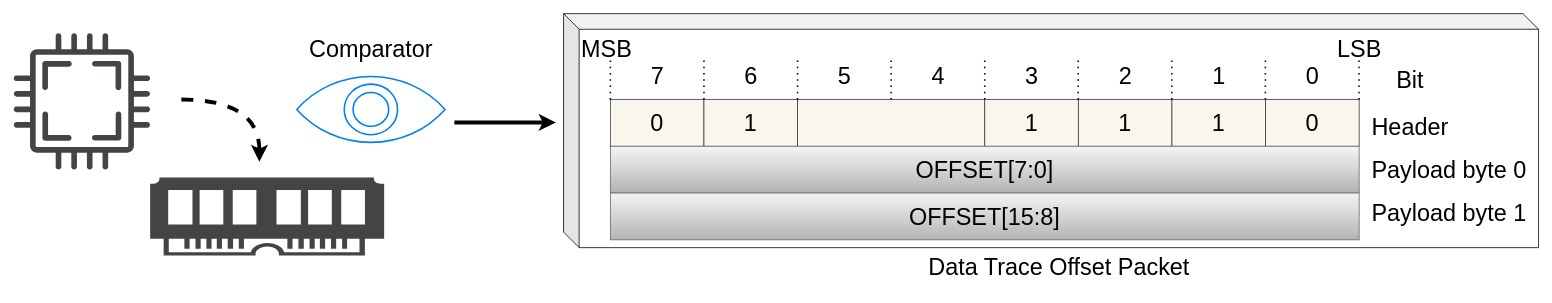
The diagram is 1552 pixels wide and 303 high, and some of its shapes have lost their labels. Here are the shapes that lost their labels. From the top down, the box of each, then its label:
(13, 33, 150, 169): CPU
(797, 99, 985, 146): CMPN[1:0]
(150, 177, 384, 255): RAM / Flash
